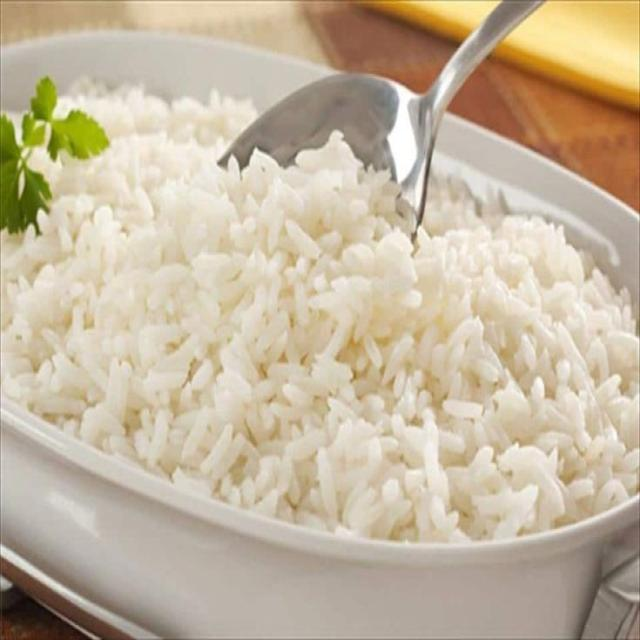Chicken -Chicken Inasal-: (78, 151, 596, 515)
